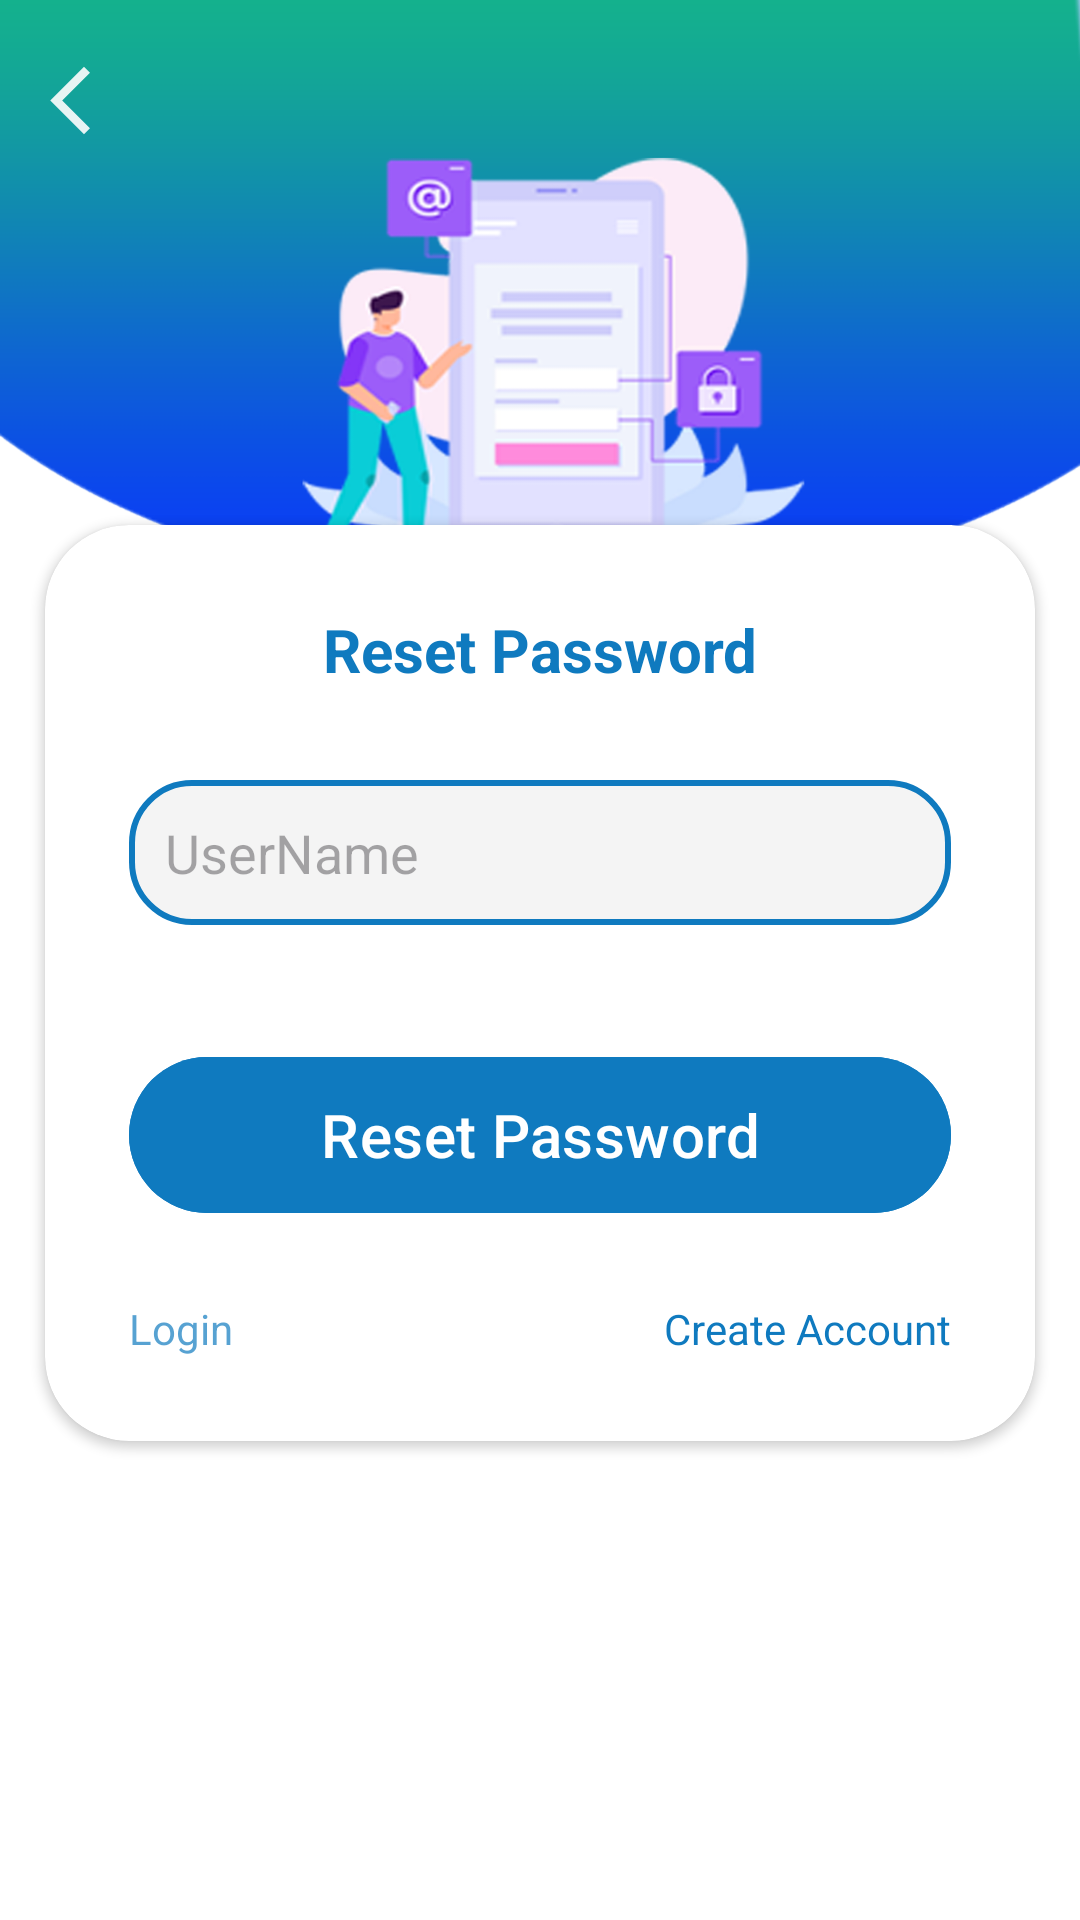

Screen size 1080px x 1920px. Icon name, then its box in pixels as (x1, y1, x2, y2):
arrow back: (50, 67, 90, 134)
